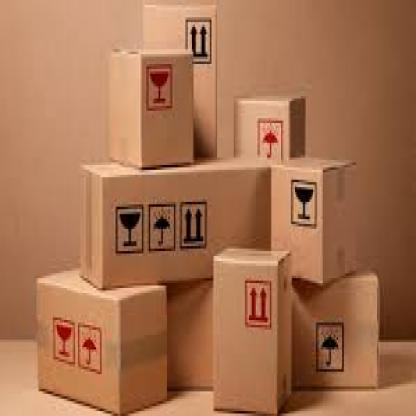Aluminum can: (4, 7, 416, 416)
